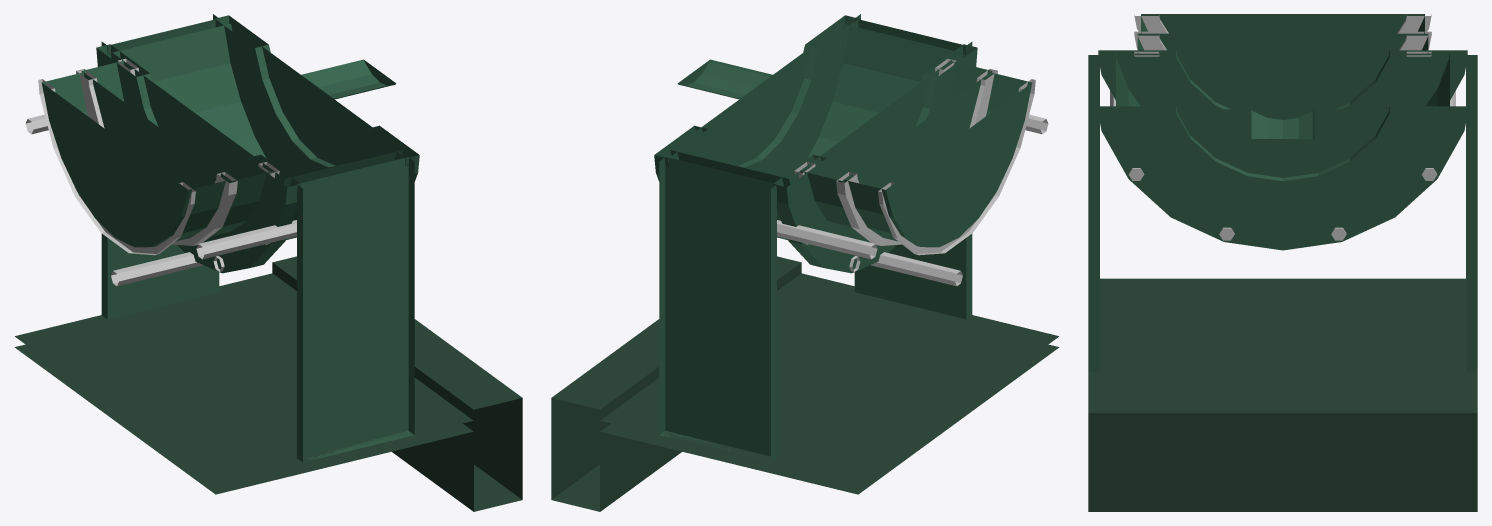
The model's file is cell_14.obj.
3 views of the same model, side by side, from view 1: azimuth 30°, elevation 25°; view 2: azimuth 150°, elevation 25°; view 3: azimuth 270°, elevation 25° (orthographic). The views are drawn at different scales.
Size of the model in its own units: 0.88 by 1 by 1.
